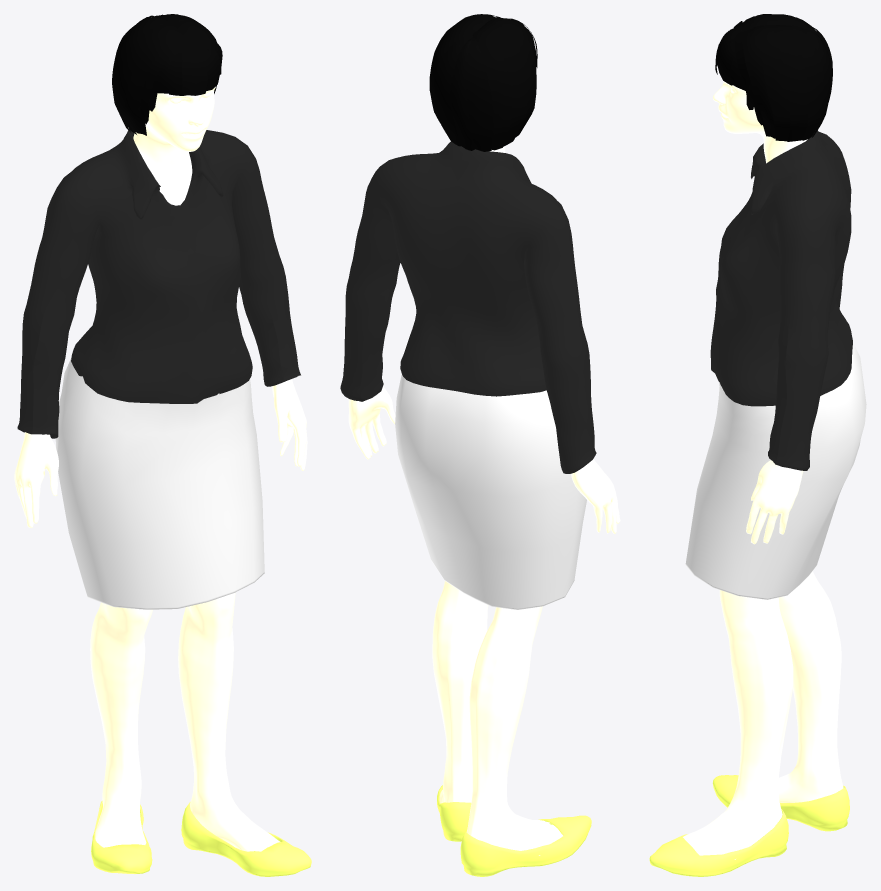
File: Woman_05_Standing-transformed.glb
The picture shows the model from 3 angles, left to right: view 1: azimuth 30°, elevation 25°; view 2: azimuth 150°, elevation 25°; view 3: azimuth 270°, elevation 25°; orthographic projection.
Visible parts, largest first — view 1: Top.001, Bottoms.001, Body.001, Hair.001, Shoes.001; view 2: Top.001, Bottoms.001, Body.001, Hair.001, Shoes.001; view 3: Top.001, Body.001, Bottoms.001, Hair.001, Shoes.001.
Boxes of the visible parts, x1,y1,x2,y2 form: Top.001: (17, 129, 300, 438); Bottoms.001: (55, 358, 264, 609); Body.001: (14, 86, 307, 851); Hair.001: (112, 14, 222, 135); Shoes.001: (91, 800, 311, 876); Top.001: (340, 141, 596, 473); Bottoms.001: (395, 375, 593, 609); Body.001: (348, 146, 620, 855); Hair.001: (429, 14, 537, 151); Shoes.001: (437, 785, 591, 876); Top.001: (710, 130, 852, 470); Body.001: (683, 81, 843, 859); Bottoms.001: (685, 342, 866, 599); Hair.001: (715, 14, 832, 141); Shoes.001: (649, 775, 849, 876).
Bounding box in the file's own units: 0.6032 × 1.74 × 0.4187.
